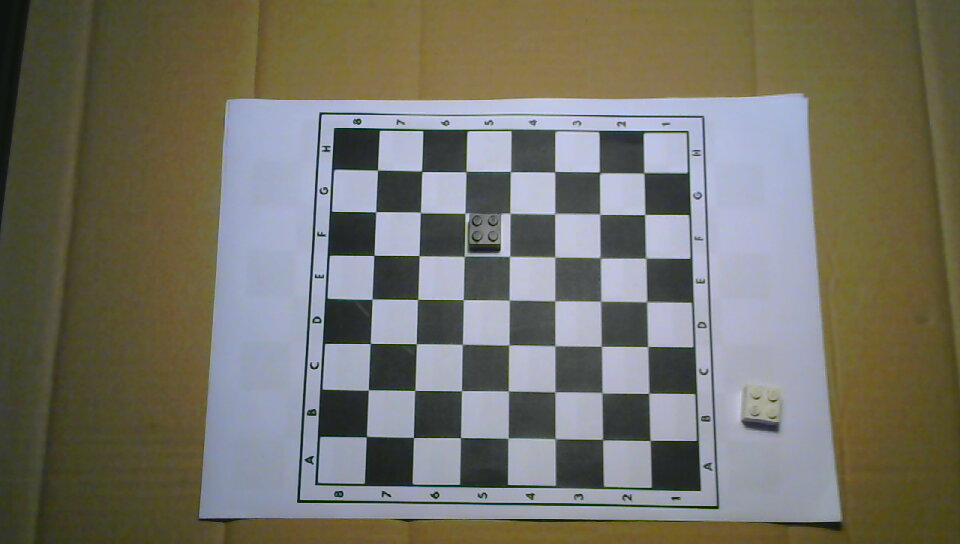bp: (465, 209, 504, 254)
wp: (740, 382, 782, 431)
